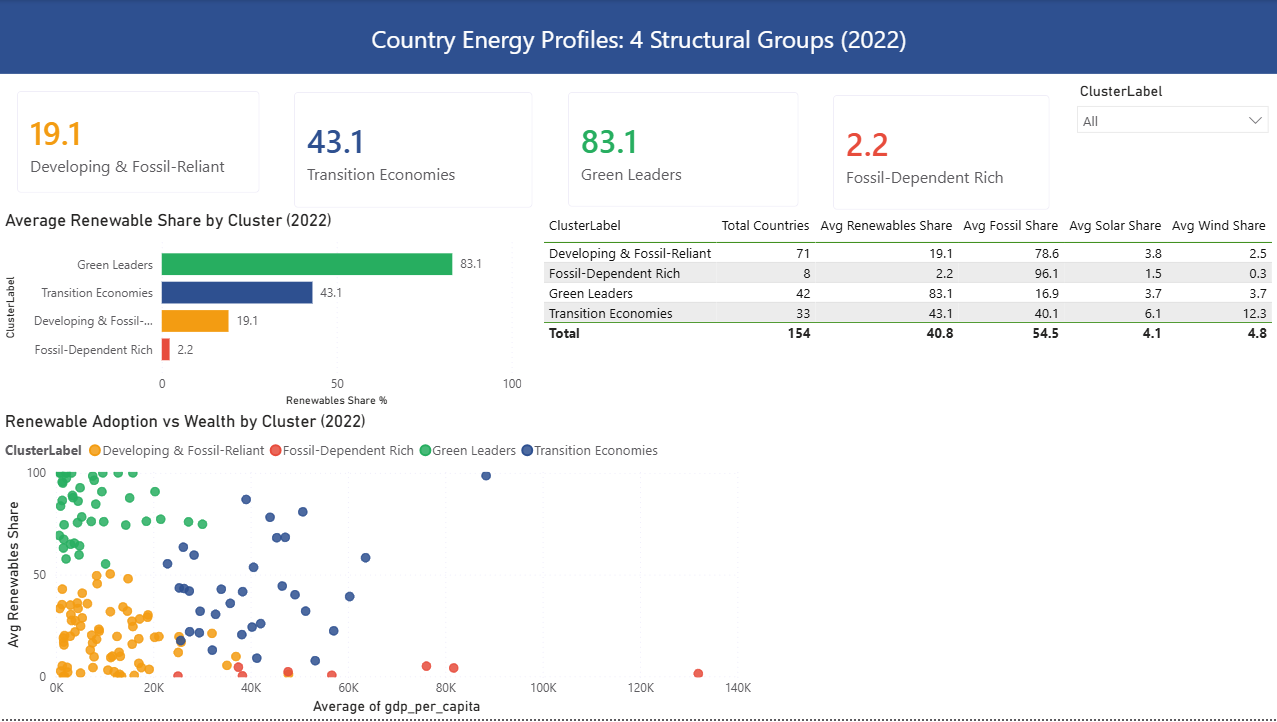

What the dashboard file says about the page in this screenshot:
{"tool":"powerbi","page":{"name":"Country Clusters","canvas":[1280,720],"ordinal":1},"visuals":[{"type":"textbox","box":[0,0,1280,74.1],"z":0},{"type":"cardVisual","fields":{"Data":["energy_cleaned.Cluster Renewables Developing"]},"box":[0,74.1,277.8,136.5],"z":1},{"type":"cardVisual","fields":{"Data":["energy_cleaned.Cluster Renewables Transition"]},"box":[277.8,75.1,273.9,150.1],"z":2},{"type":"cardVisual","fields":{"Data":["energy_cleaned.Cluster Renewables Green"]},"box":[551.8,75.1,265.2,149.2],"z":3},{"type":"cardVisual","fields":{"Data":["energy_cleaned.Cluster Renewables Fossil Rich"]},"box":[816.9,78,251.5,149.2],"z":4},{"type":"clusteredBarChart","title":"Average Renewable Share by Cluster (2022)","fields":{"Category":["energy_cleaned.ClusterLabel"],"Y":["energy_cleaned.Avg Renewables Share"]},"box":[0,210.6,527.4,200.8],"z":5},{"type":"tableEx","fields":{"Values":["energy_cleaned.ClusterLabel","energy_cleaned.Total Countries","energy_cleaned.Avg Renewables Share","energy_cleaned.Avg Fossil Share","energy_cleaned.Avg Solar Share","energy_cleaned.Avg Wind Share"]},"box":[539.1,210.6,740.9,224.2],"z":6},{"type":"scatterChart","title":"Renewable Adoption vs Wealth by Cluster (2022)","fields":{"Y":["energy_cleaned.Avg Renewables Share"],"Series":["energy_cleaned.ClusterLabel"],"X":["energy_cleaned.gdp_per_capita"],"Category":["energy_cleaned.country"]},"box":[0,411.4,757.5,309],"z":7},{"type":"slicer","fields":{"Values":["energy_cleaned.ClusterLabel"]},"box":[1068.5,78,211.5,64.3],"z":8}]}

Visuals, with their boxes in screenshot pixels (x1, y1, x2, y2), scaled from the page's 1280x720 canvas onto the 1277x722 screenshot:
textbox: region(0, 0, 1276, 74)
cardVisual - energy_cleaned.Cluster Renewables Developing: region(0, 74, 277, 211)
cardVisual - energy_cleaned.Cluster Renewables Transition: region(277, 75, 550, 226)
cardVisual - energy_cleaned.Cluster Renewables Green: region(551, 75, 815, 225)
cardVisual - energy_cleaned.Cluster Renewables Fossil Rich: region(815, 78, 1066, 228)
"Average Renewable Share by Cluster (2022)" clusteredBarChart: region(0, 211, 526, 413)
tableEx - energy_cleaned.ClusterLabel x energy_cleaned.Total Countries: region(538, 211, 1276, 436)
"Renewable Adoption vs Wealth by Cluster (2022)" scatterChart: region(0, 413, 756, 721)
slicer - energy_cleaned.ClusterLabel: region(1066, 78, 1276, 143)
